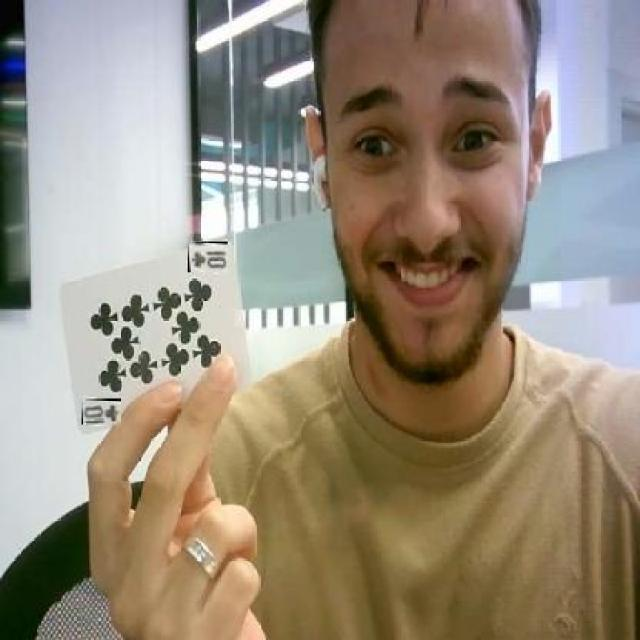10C: (188, 242, 228, 272), (82, 398, 120, 424)
